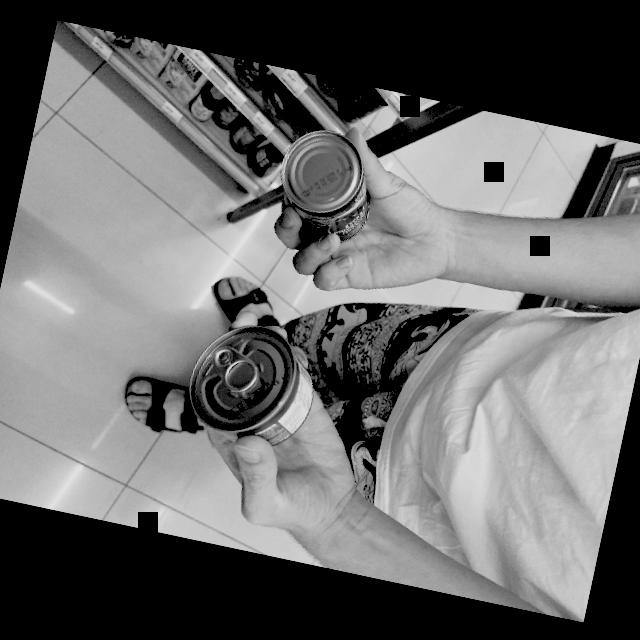can: (176, 312, 327, 471), (268, 117, 390, 276)
